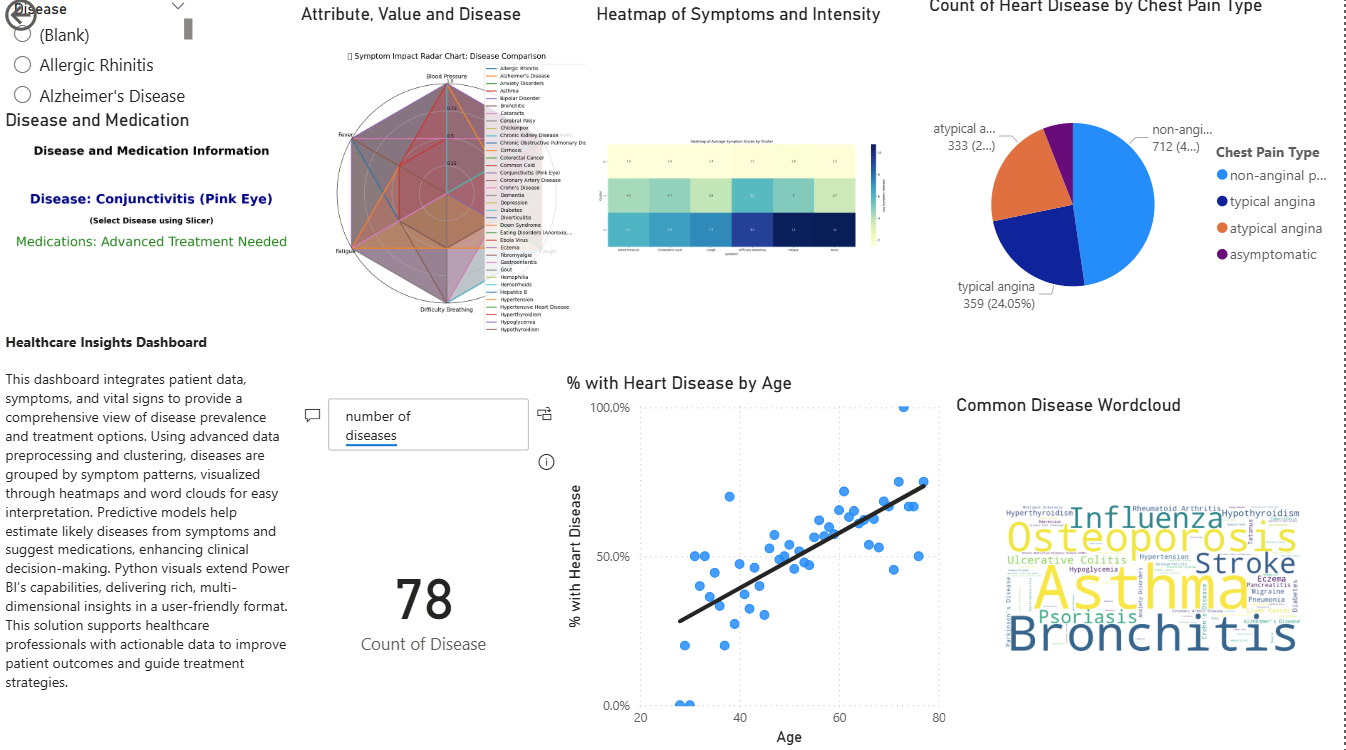

What the dashboard file says about the page in this screenshot:
{"tool":"powerbi","page":{"name":"Page 1","canvas":[1280,720],"ordinal":0},"visuals":[{"type":"qnaVisual","box":[281.2,360,252.5,360],"z":0},{"type":"scatterChart","fields":{"Y":["Avg(Diagnosis with Medication.Heart Disease)"],"X":["Diagnosis with Medication.Age"]},"box":[533.8,360,371.2,360],"z":1000},{"type":"pieChart","fields":{"Y":["CountNonNull(Diagnosis with Medication.Heart Disease)"],"Category":["Diagnosis with Medication.Chest Pain Type"]},"box":[880,0,400,381.2],"z":2000},{"type":"pythonVisual","fields":{"Values":["Diagnosis with Medication.Disease","Diagnosis with Medication.Medication"]},"box":[0,110,281.7,205],"z":3000},{"type":"slicer","fields":{"Values":["Diagnosis with Medication.Disease"]},"box":[0,0,188.3,110],"z":4000},{"type":"pythonVisual","title":"Heatmap of Symptoms and Intensity","fields":{"Values":["DiseaseContributorStateCounts.Count","DiseaseContributorStateCounts.Disease","DiseaseContributorStateCounts.Value","DiseaseContributorStateCounts.Attribute"]},"box":[562.5,8.8,318.8,351.2],"z":5000},{"type":"pythonVisual","title":"Common Disease Wordcloud","fields":{"Values":["Sum(DiseaseContributorStateCounts.Count)","DiseaseContributorStateCounts.Disease"]},"box":[905,381.2,375,330],"z":6000},{"type":"actionButton","box":[0,0,100,40],"z":7000},{"type":"textbox","box":[0,315,281.7,405],"z":8000},{"type":"pythonVisual","fields":{"Values":["Unpivot.Attribute","Unpivot.Value","Unpivot.Disease"]},"box":[281.4,8.6,281.4,340],"z":9000}]}

Visuals, with their boxes on the page's 1280x720 design canvas (x1, y1, x2, y2). These are canvas units, not pixel positions in the 1346x750 screenshot, which may show the page scaled, cropped or inside an application window:
qnaVisual: BBox(281, 360, 534, 720)
scatterChart - Avg(Diagnosis with Medication.Heart Disease) x Diagnosis with Medication.Age: BBox(534, 360, 905, 720)
pieChart - CountNonNull(Diagnosis with Medication.Heart Disease) x Diagnosis with Medication.Chest Pain Type: BBox(880, 0, 1280, 381)
pythonVisual - Diagnosis with Medication.Disease x Diagnosis with Medication.Medication: BBox(0, 110, 282, 315)
slicer - Diagnosis with Medication.Disease: BBox(0, 0, 188, 110)
"Heatmap of Symptoms and Intensity" pythonVisual: BBox(562, 9, 881, 360)
"Common Disease Wordcloud" pythonVisual: BBox(905, 381, 1280, 711)
actionButton: BBox(0, 0, 100, 40)
textbox: BBox(0, 315, 282, 720)
pythonVisual - Unpivot.Attribute x Unpivot.Value: BBox(281, 9, 563, 349)
